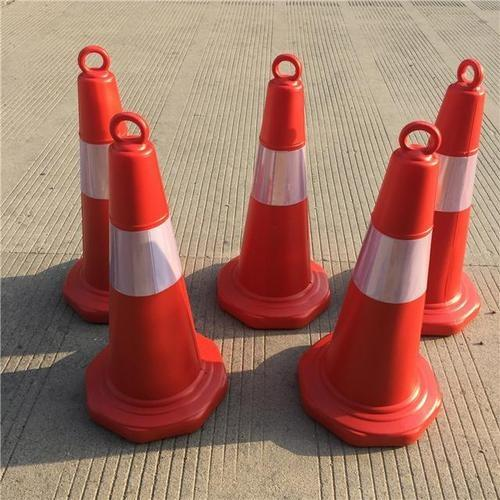cone_barrel: (303, 118, 449, 447), (83, 101, 223, 444), (216, 63, 335, 334), (411, 60, 486, 328), (64, 39, 128, 310)
